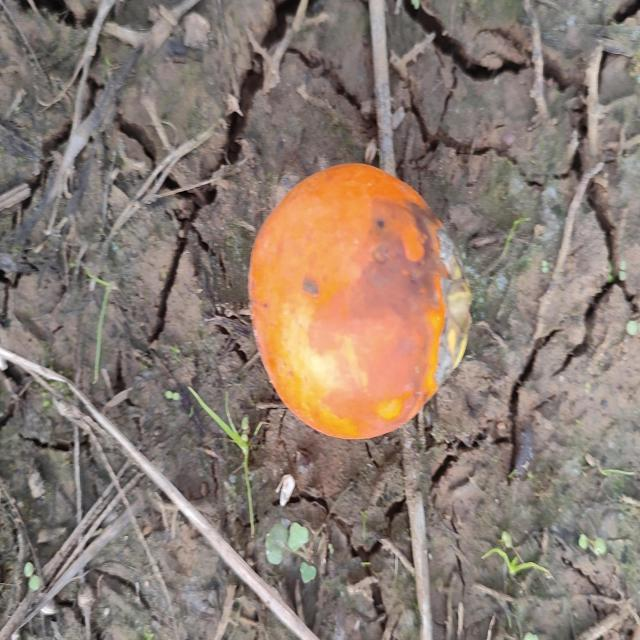good: (248, 164, 472, 439)
